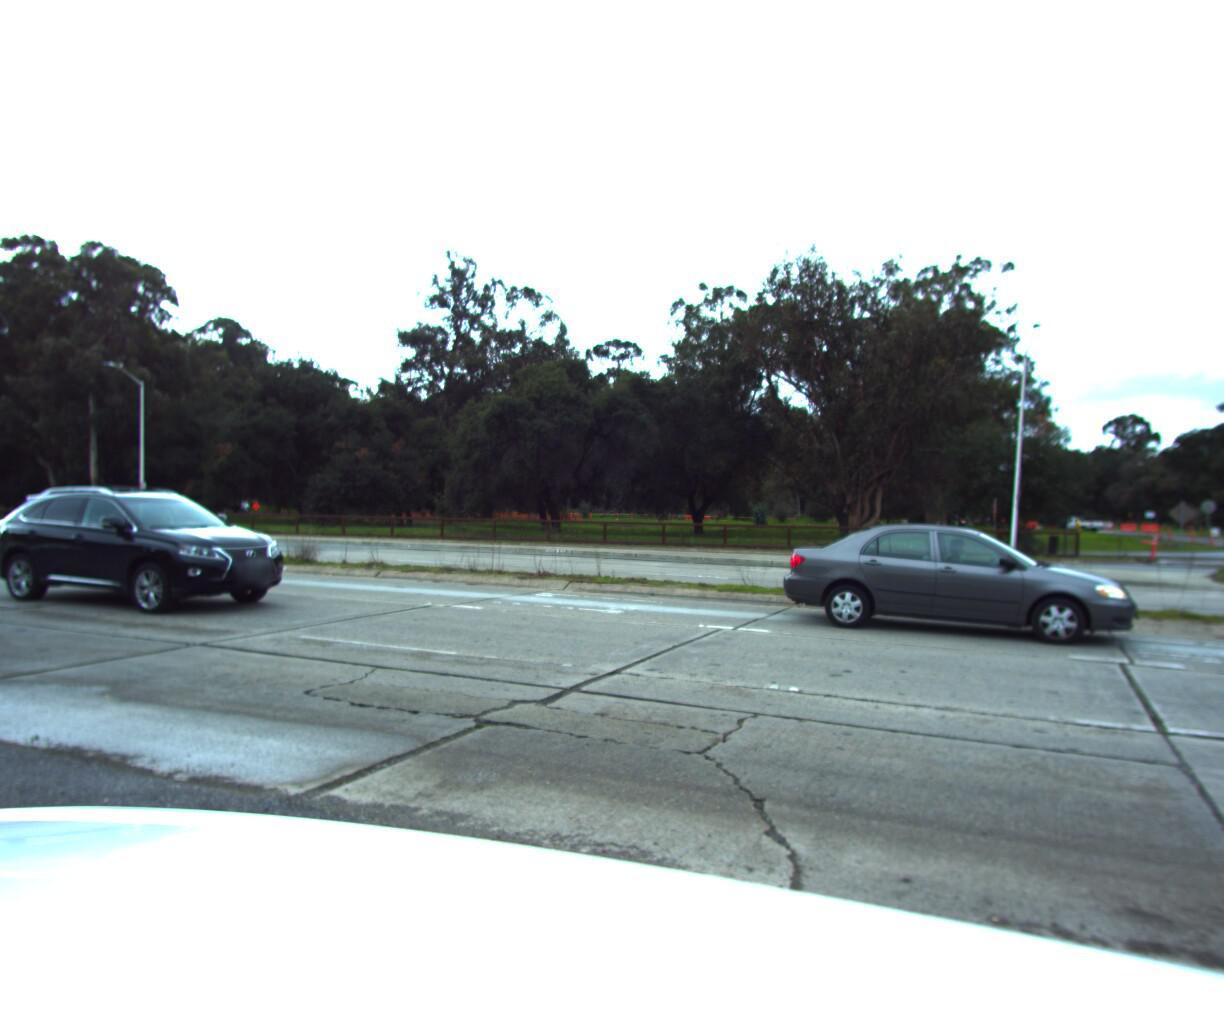car: (769, 510, 1133, 652), (0, 481, 301, 620)
